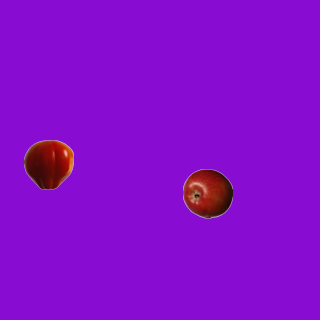Apple Braeburn: (182, 168, 232, 218)
Tomato 1: (23, 139, 73, 189)
